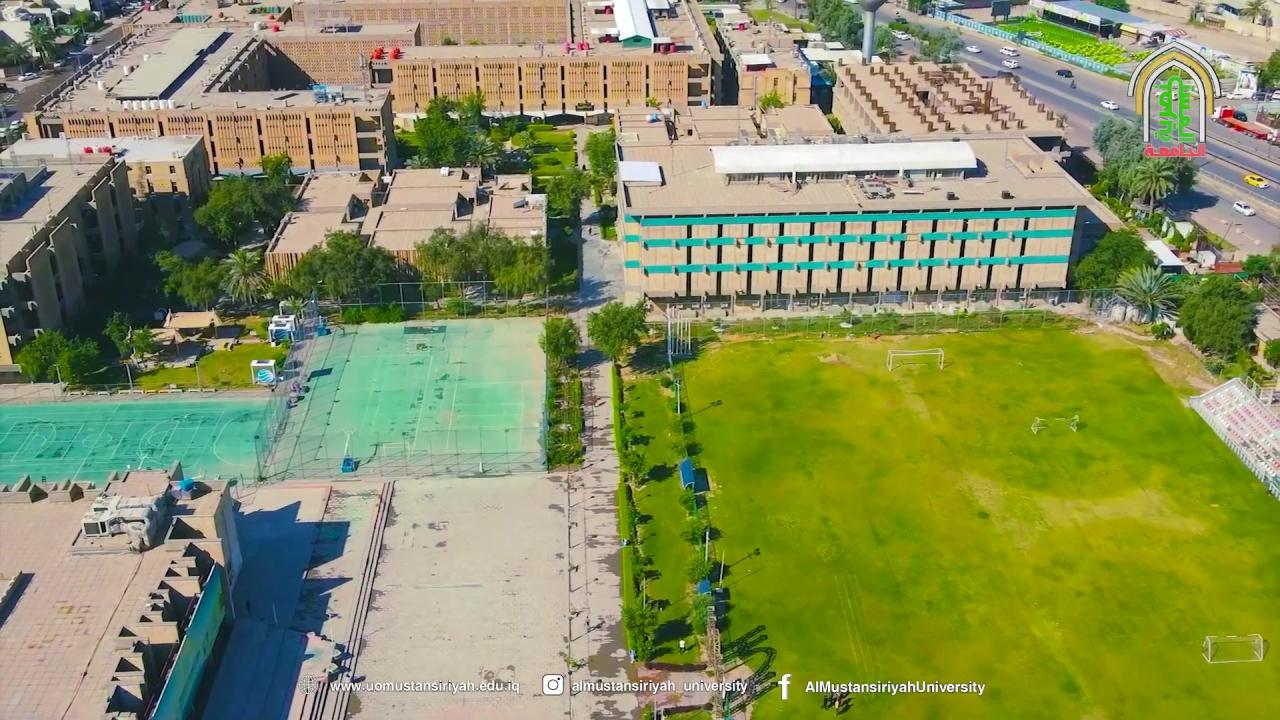car: (1243, 173, 1269, 189), (1233, 200, 1255, 216), (1100, 100, 1119, 111), (1001, 59, 1020, 69), (999, 47, 1019, 56), (892, 30, 911, 39), (1056, 70, 1073, 78), (966, 45, 981, 53), (894, 17, 907, 23)
tree: (585, 297, 659, 664), (412, 220, 552, 314), (686, 592, 779, 718), (1090, 114, 1198, 218), (585, 298, 648, 456), (286, 227, 394, 317), (537, 313, 584, 471), (1176, 272, 1256, 361), (1072, 227, 1157, 307), (12, 326, 102, 386), (192, 173, 265, 246), (585, 297, 649, 366), (404, 95, 464, 168), (154, 250, 224, 312), (102, 309, 155, 389), (1113, 263, 1181, 324), (492, 236, 553, 304), (413, 226, 461, 300), (1125, 156, 1178, 217), (217, 247, 269, 306), (804, 0, 861, 47), (537, 313, 581, 371), (55, 335, 105, 386), (620, 600, 659, 664), (582, 126, 617, 197), (459, 130, 501, 185), (558, 649, 589, 719), (152, 249, 187, 307), (1091, 114, 1127, 163), (918, 25, 963, 63), (102, 310, 133, 361), (23, 20, 56, 65), (258, 150, 292, 189), (457, 86, 486, 126), (125, 324, 155, 361), (1258, 47, 1280, 90), (586, 165, 607, 206), (757, 86, 785, 114), (1242, 0, 1269, 24), (7, 40, 30, 67), (1262, 336, 1279, 369), (826, 112, 844, 133), (644, 94, 660, 108)
